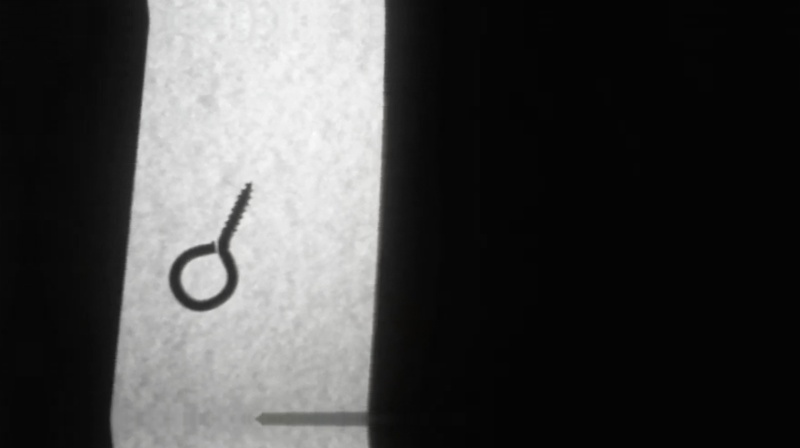O001: (164, 179, 255, 314)
